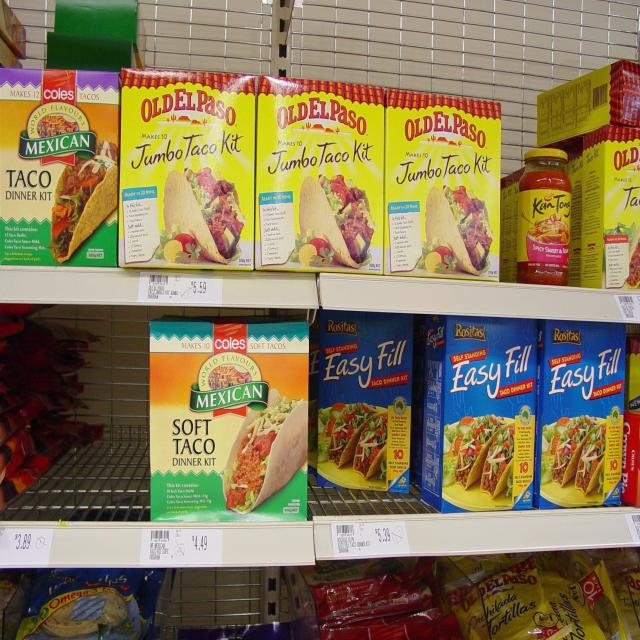empty_space: (28, 318, 139, 510), (174, 576, 274, 629)
